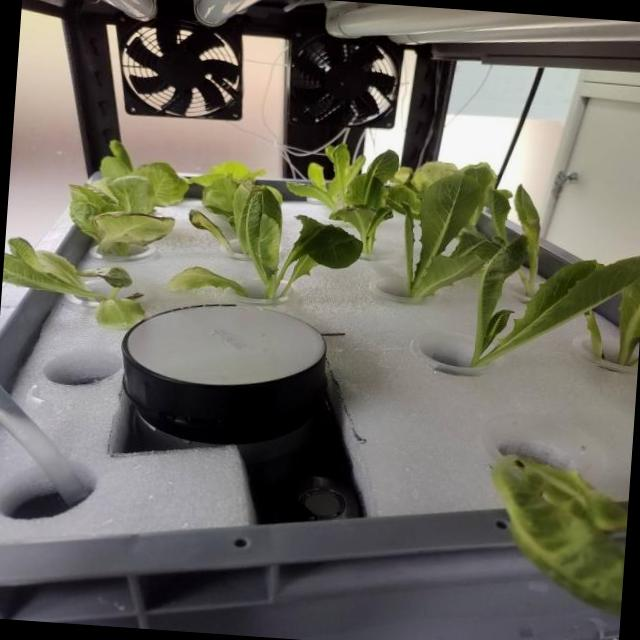Lettuce-Not-Ready-to-Harvest: (470, 235, 640, 366), (491, 456, 626, 612), (240, 186, 362, 299), (2, 237, 145, 328), (396, 173, 495, 298), (69, 175, 175, 255), (329, 150, 398, 253), (101, 140, 189, 206), (287, 141, 365, 211), (189, 161, 265, 228), (388, 160, 459, 218), (513, 185, 539, 296), (165, 266, 248, 296), (459, 162, 495, 225), (616, 277, 640, 365), (188, 210, 234, 252), (487, 188, 512, 246), (585, 310, 605, 358)
